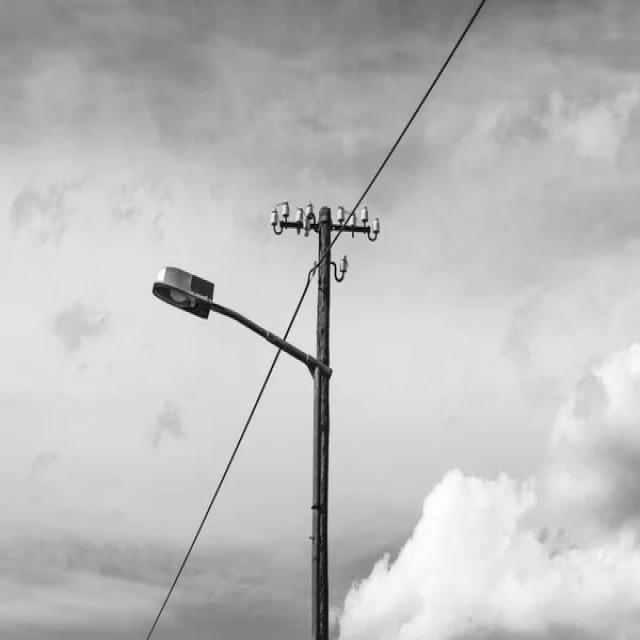Pole: (313, 206, 332, 640)
